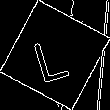L_N: (33, 27, 77, 83)
